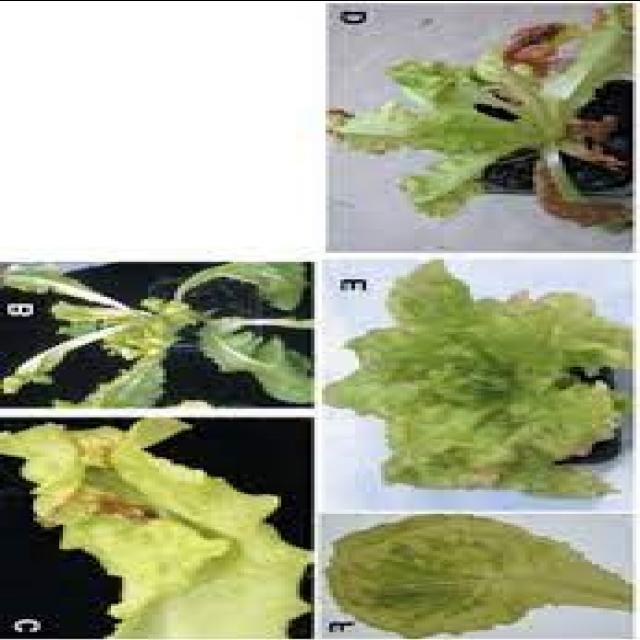Lettuce: (328, 258, 628, 502), (333, 3, 632, 232), (4, 423, 306, 640), (2, 262, 310, 405), (330, 514, 640, 638)
